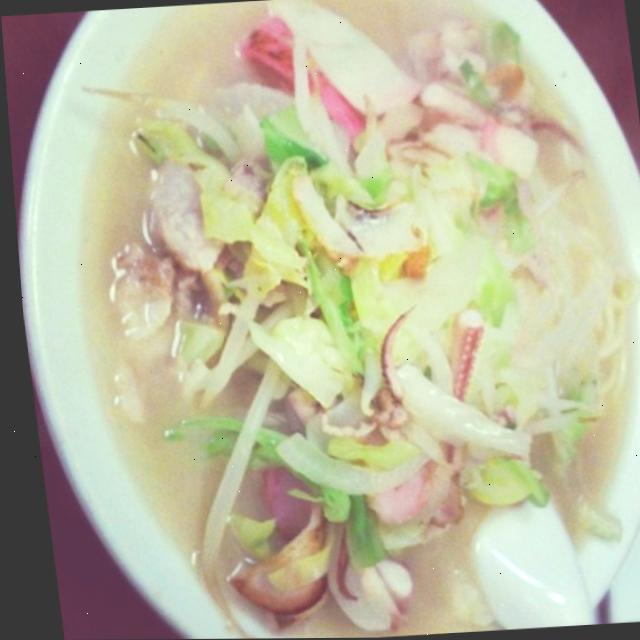面条主食: (74, 0, 579, 639)
